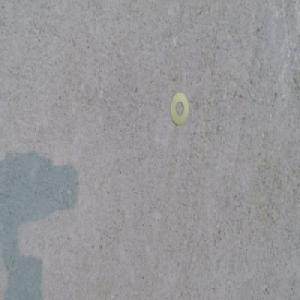Washer: (169, 92, 190, 124)
